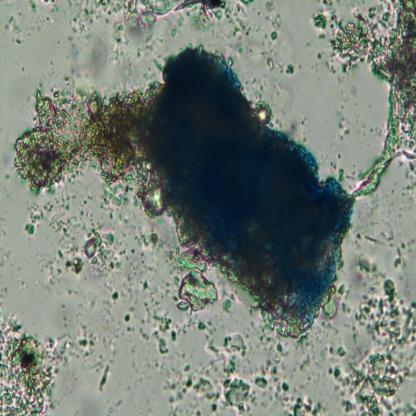Background material: (13, 87, 166, 215), (329, 0, 416, 201), (165, 330, 254, 414), (72, 1, 226, 44), (0, 313, 60, 415), (328, 347, 416, 416), (349, 272, 416, 349), (63, 25, 119, 89), (253, 341, 294, 409), (138, 299, 188, 352), (170, 266, 222, 312), (86, 222, 122, 277), (224, 0, 260, 54), (44, 195, 94, 233), (59, 326, 98, 370), (121, 253, 157, 298), (52, 235, 86, 276), (321, 280, 352, 323), (102, 182, 134, 219), (313, 0, 340, 41), (125, 220, 163, 249), (293, 336, 319, 377), (258, 31, 284, 70), (288, 393, 330, 415), (22, 200, 46, 238), (360, 226, 398, 249), (352, 256, 382, 284), (264, 0, 284, 31), (4, 16, 24, 46), (322, 340, 349, 362), (104, 279, 122, 311), (190, 316, 214, 336), (337, 113, 352, 142), (393, 240, 407, 271), (42, 0, 65, 18), (98, 361, 111, 392), (221, 289, 234, 311), (121, 309, 134, 327), (283, 61, 296, 78), (28, 0, 38, 13)
Fragment: (147, 42, 357, 336)
